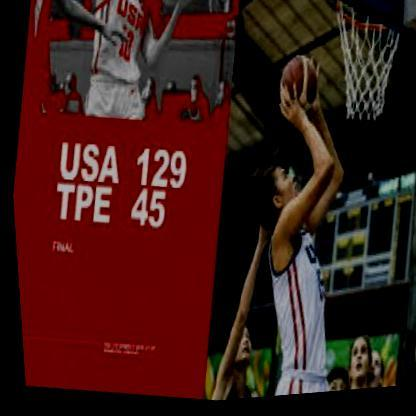basketball: (271, 53, 320, 126)
rim: (331, 0, 401, 50)
